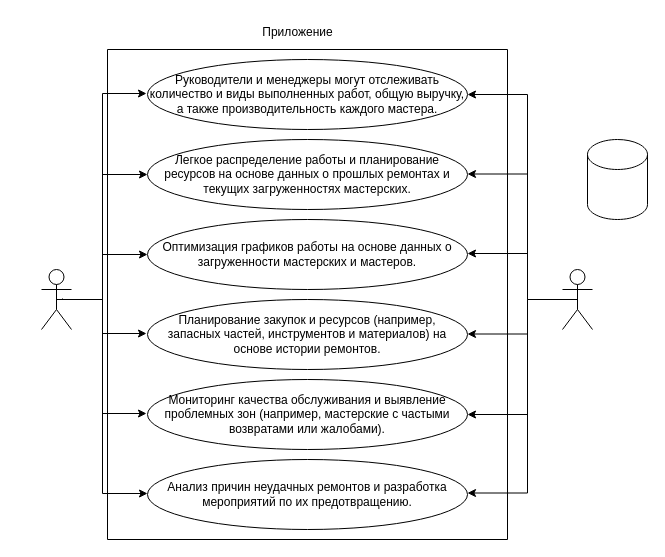
Image size: 665x557. Some labels were removed from this diagram. The shapes that lost their labels are listed below. From the top down, each one's centre as x and y in pixels, then its label:
point (617, 179): База данных
point (56, 299): Пользователь
point (577, 299): Гос. служба и автомастерские
